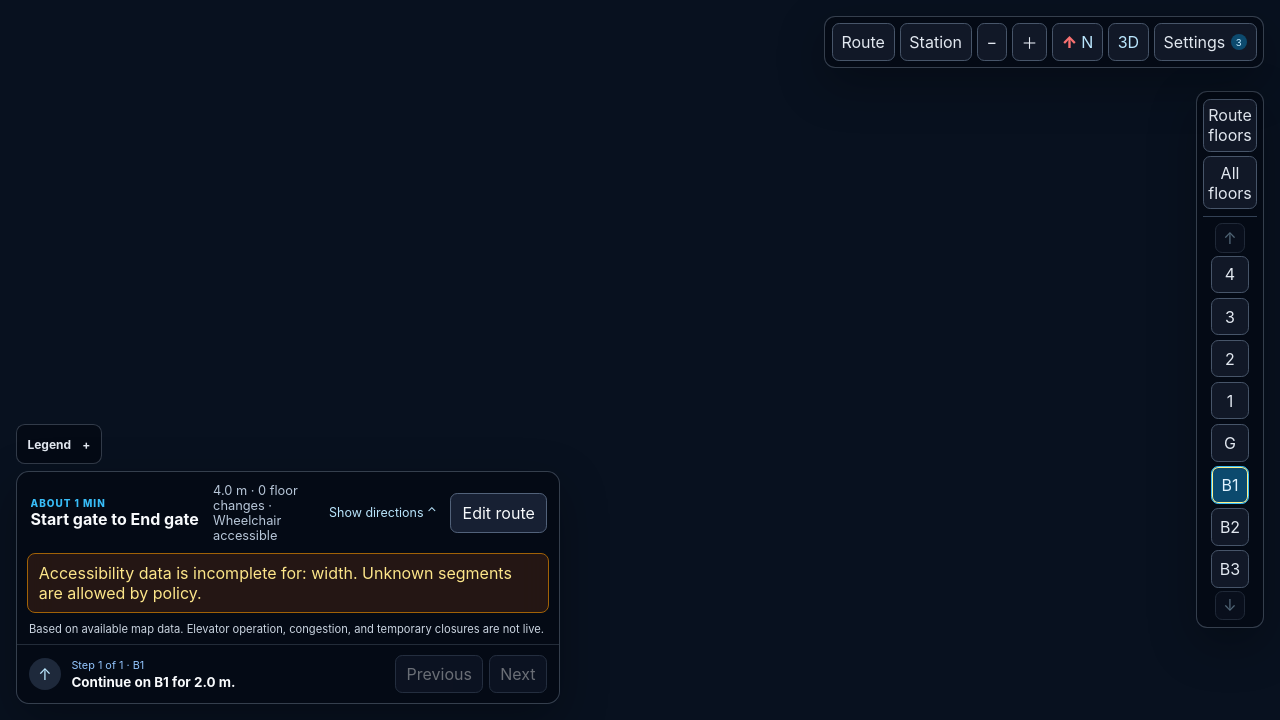
Test: viewer controls › switches a live route to Japanese without changing route state or URL
expect the text "Continue on B1 for 2.0 m." is shown: met, box [71,674,236,690]
What coordinates should you click on to do the following:
click the heading named "Map settings"
I would click on:
 (1205, 42)
Its box is [1154,23,1257,61].
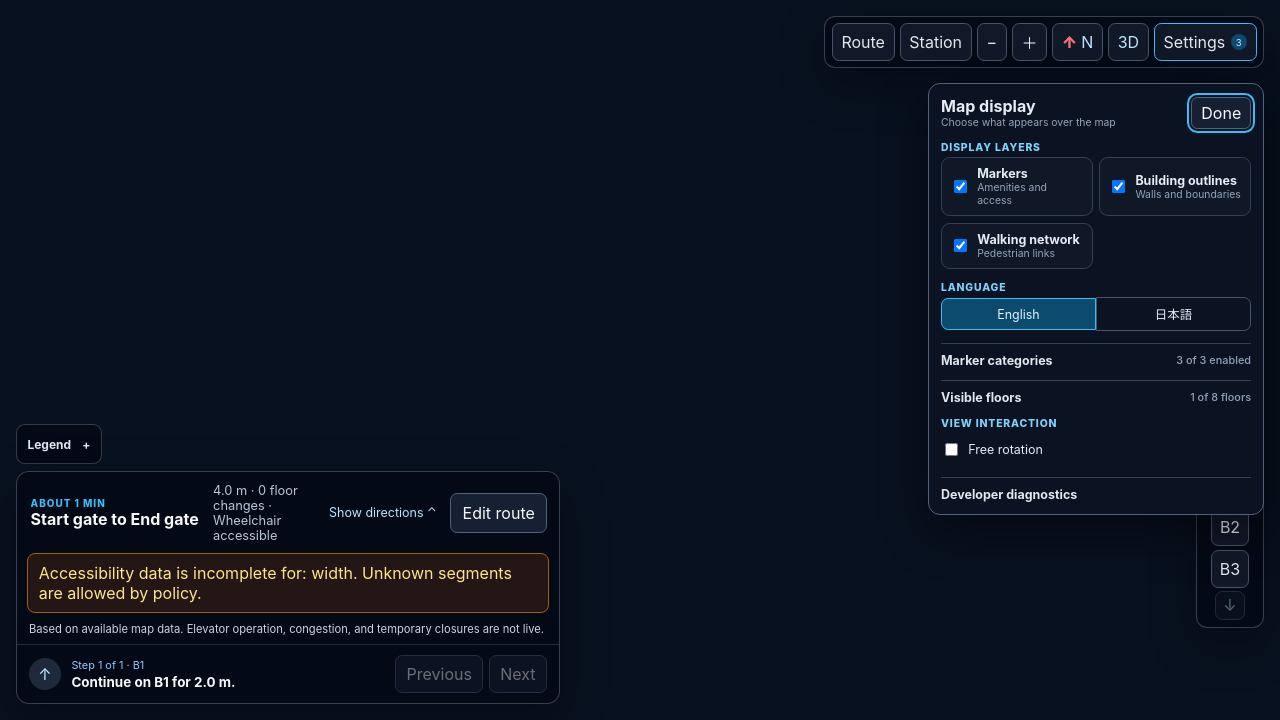
What coordinates should you click on to do the following:
click the radio button labelled "日本語"
I would click on:
 (1174, 314)
Its box is [1096,297,1251,331].
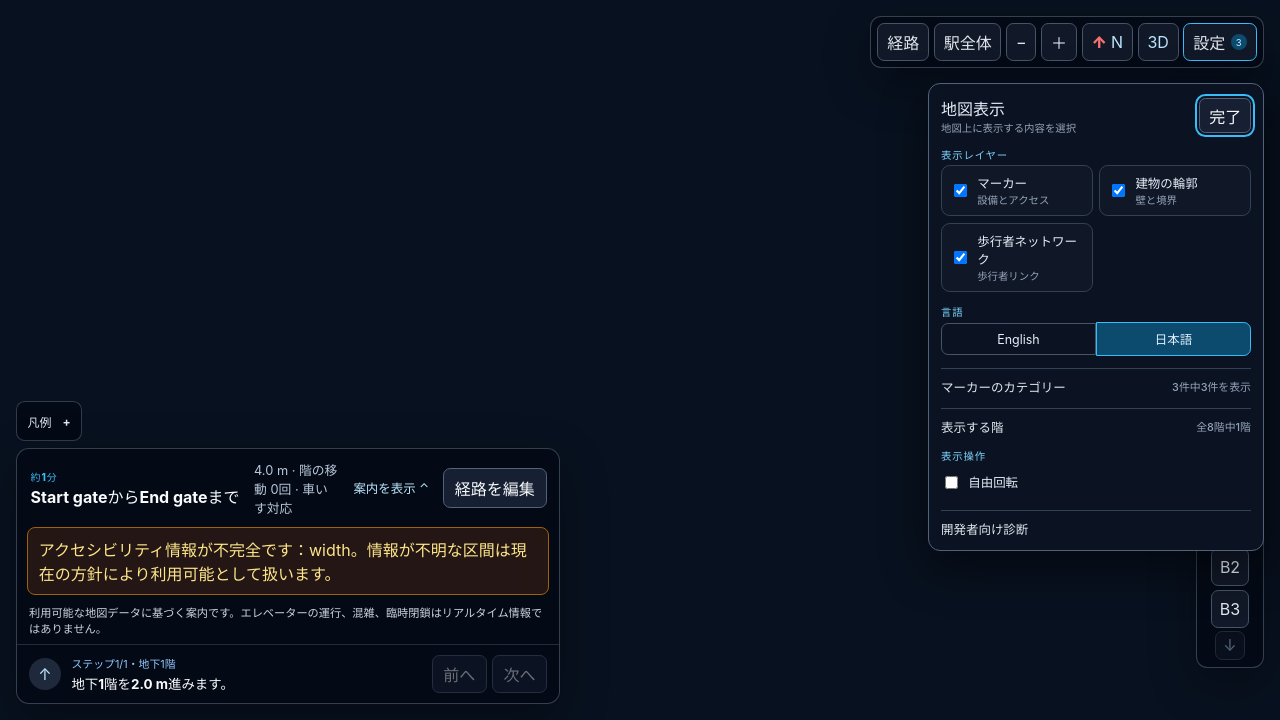
expect the text "地下1階を2.0 m進みます。" is shown: met, box [71,676,234,692]
expect the button "経路を編集" is shown: met, box [443,468,547,508]
